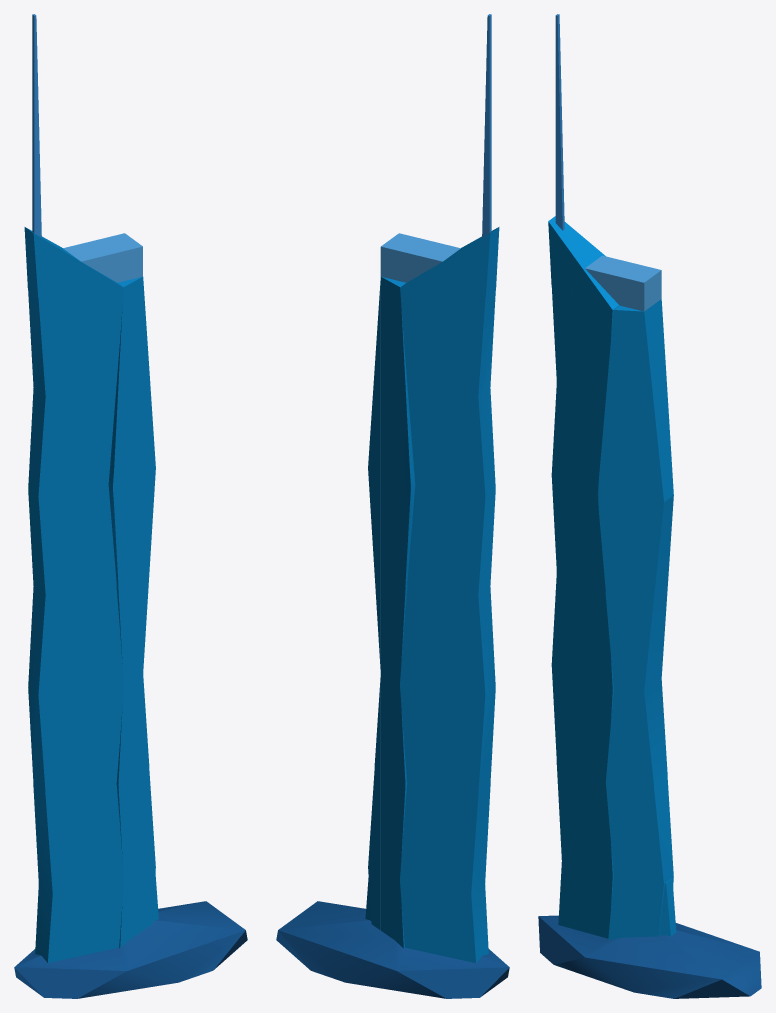
The model's file is merdeka_pnb_118.glb.
3 views of the same model, side by side, from view 1: azimuth 30°, elevation 25°; view 2: azimuth 150°, elevation 25°; view 3: azimuth 330°, elevation 25° (orthographic). The views are drawn at different scales.
Parts seen in each view (by area): view 1: Object_2, Object_5, Object_4, Object_3; view 2: Object_2, Object_5, Object_4, Object_3; view 3: Object_2, Object_5, Object_4, Object_3.
Part boxes in pixels (x1,y1,x2,y2): Object_2: (24, 227, 158, 962); Object_5: (14, 901, 247, 998); Object_4: (63, 233, 142, 282); Object_3: (32, 14, 41, 237); Object_2: (365, 227, 499, 962); Object_5: (276, 901, 509, 998); Object_4: (380, 233, 460, 930); Object_3: (482, 14, 491, 237); Object_2: (548, 216, 676, 939); Object_5: (538, 915, 761, 998); Object_4: (585, 255, 661, 311); Object_3: (555, 14, 564, 230).
Size of the model in its own units: 64 by 261 by 31.25.
